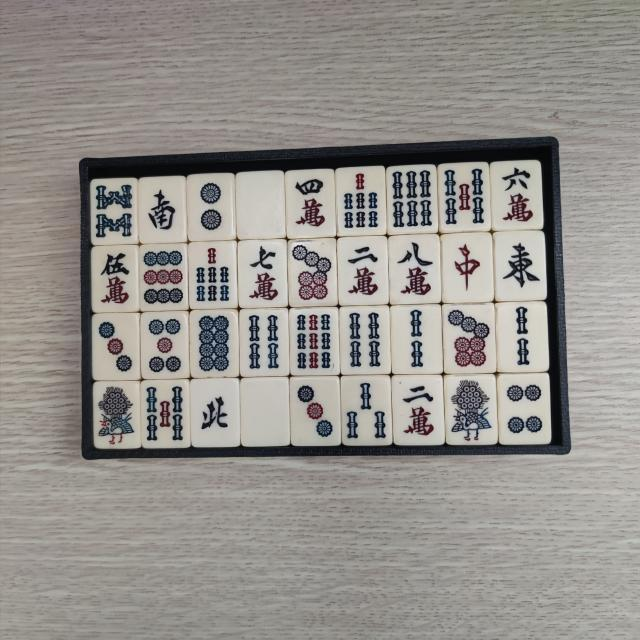hdr: (446, 236, 486, 298)
hdw: (240, 175, 282, 232), (248, 381, 287, 440)
hwe: (499, 238, 544, 298)
hwn: (195, 384, 234, 442)
hws: (142, 182, 182, 240)
sb1: (448, 378, 493, 442), (96, 387, 137, 448)
sb2: (502, 307, 545, 370), (396, 309, 439, 371)
sb3: (344, 382, 388, 444)
sb4: (344, 310, 386, 372), (244, 311, 284, 372)
sb5: (442, 165, 487, 228), (144, 386, 186, 446)
sb6: (391, 170, 435, 232)
sb7: (340, 170, 382, 232), (192, 244, 234, 304)
sb8: (94, 182, 135, 242)
sb9: (294, 311, 335, 373)
sc2: (398, 381, 440, 442), (342, 242, 384, 302)
sc4: (291, 172, 331, 232)
sc5: (96, 250, 136, 310)
sc6: (496, 163, 538, 224)
sc7: (244, 244, 284, 306)
sc8: (394, 239, 438, 301)
sd2: (193, 176, 231, 236)
sd3: (294, 382, 338, 442), (96, 318, 136, 377)
sd4: (503, 378, 548, 438)
sd5: (146, 317, 186, 377)
sd7: (447, 306, 492, 368), (292, 244, 335, 304)
sd8: (194, 313, 234, 373)
sd9: (142, 249, 184, 308)
